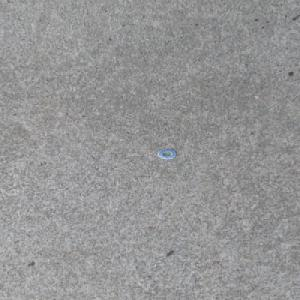Washer: (157, 148, 177, 159)
